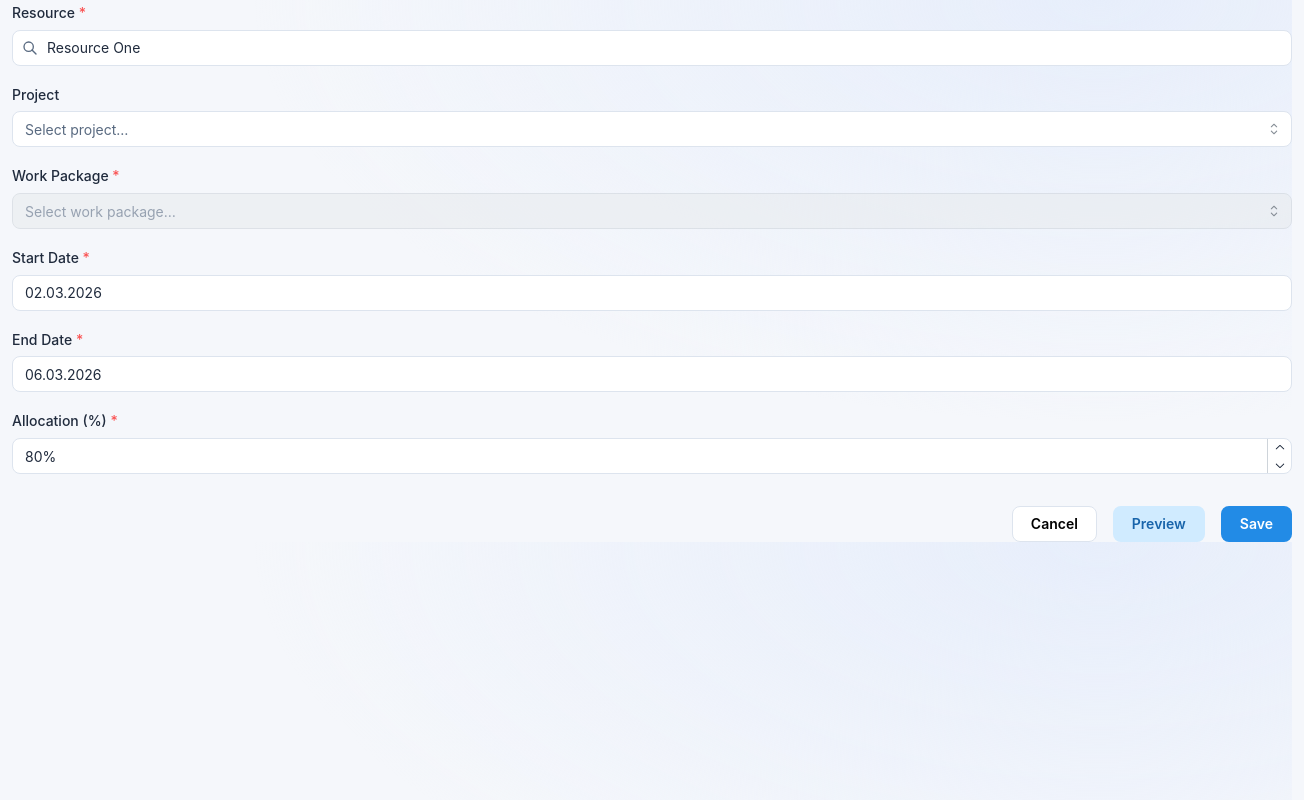
AssignmentForm — personal date range › shows a read-only impact and hides it after the form changes
Expected: the field labelled "Start Date *" holds "02.03.2026", x1=12 y1=275 x2=1292 y2=311
Click the button "Preview" at (1159, 524), box x1=1113 y1=506 x2=1205 y2=542
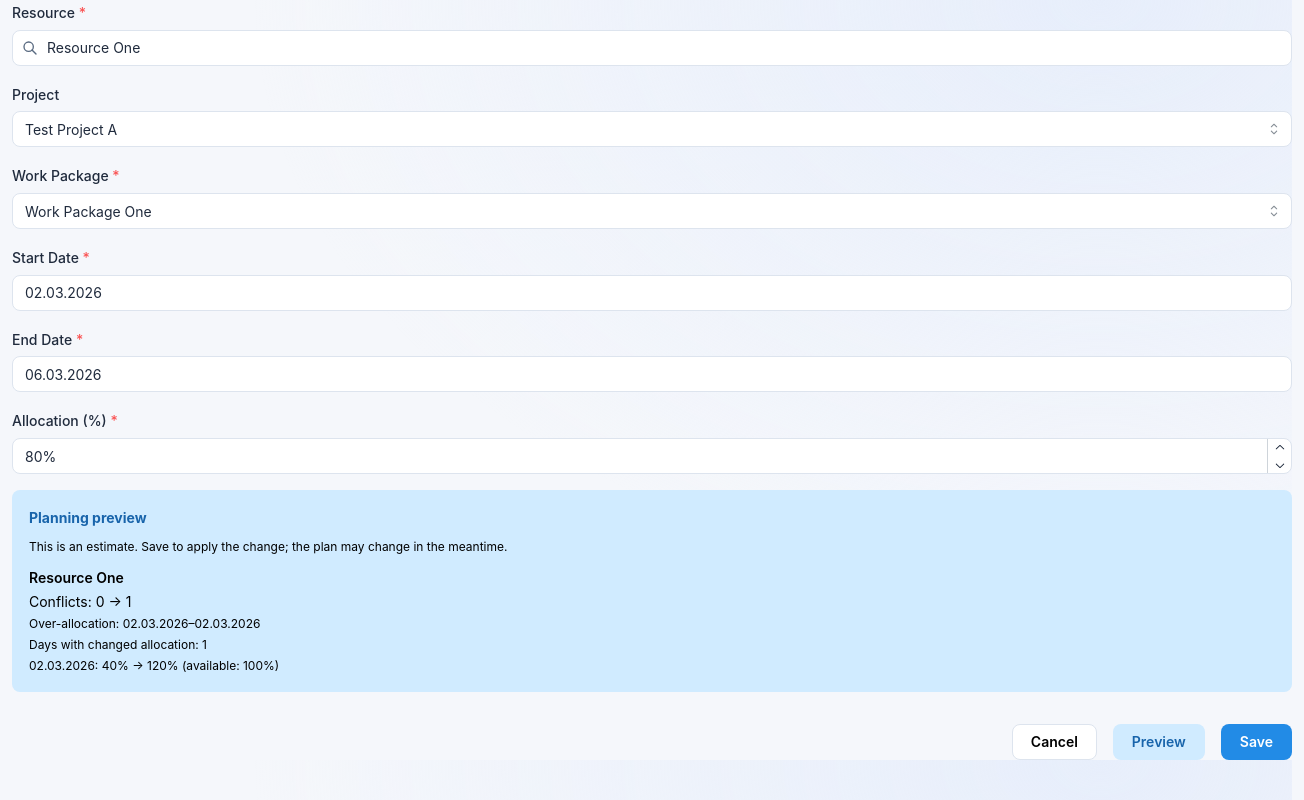
Expected: the text "Conflicts: 0 → 1" is shown, x1=29 y1=593 x2=131 y2=610
Replace the text in the field labelled "End Date *" with "07.03.2026" at (652, 374), box x1=12 y1=356 x2=1292 y2=392
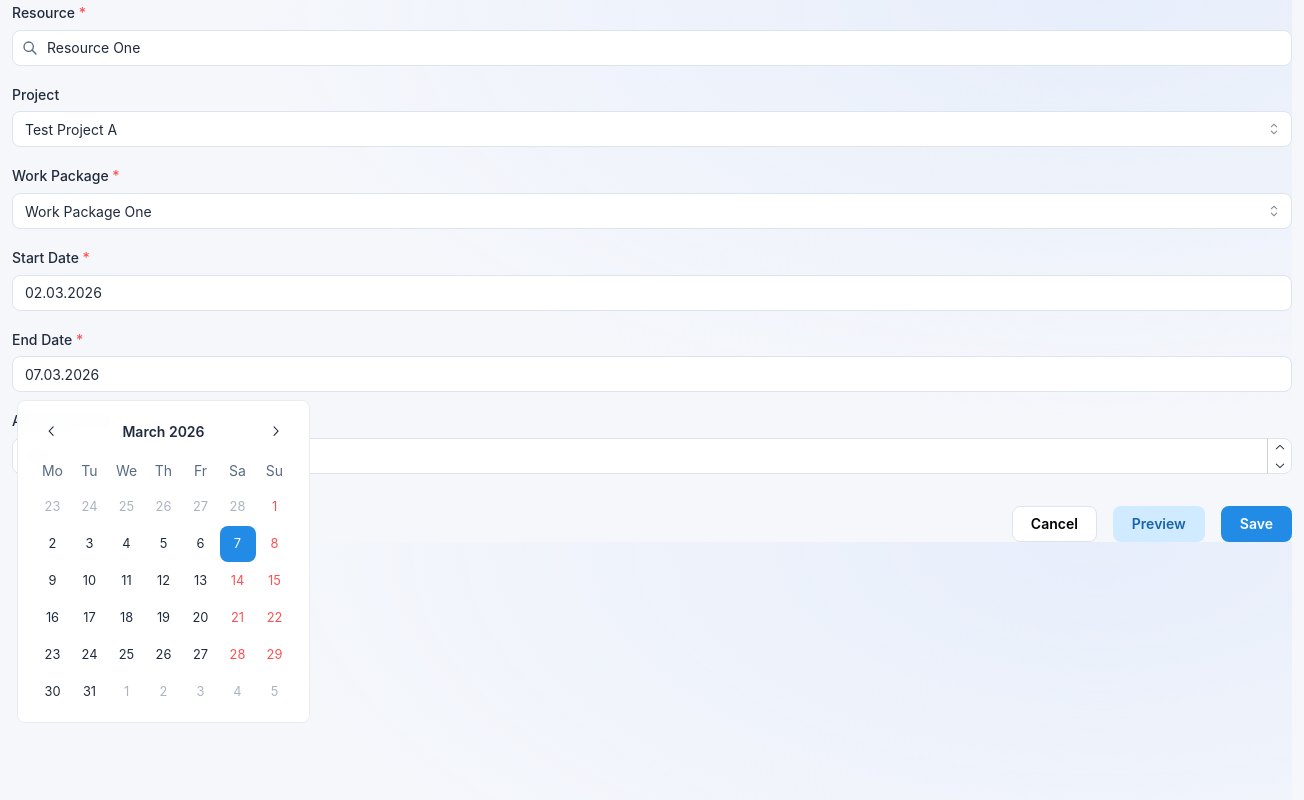
Expected: the text "Conflicts: 0 → 1" is gone
